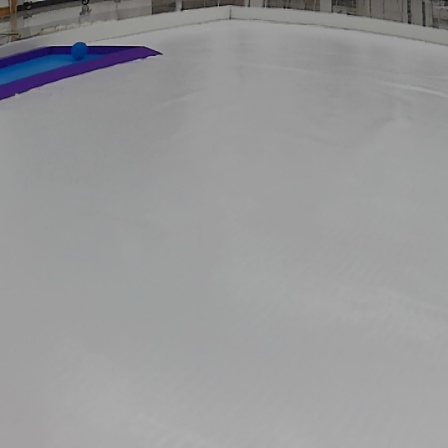blue: (72, 41, 90, 57)
blue_aim: (2, 43, 164, 102)
